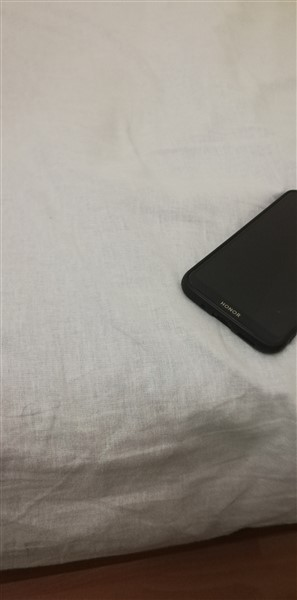telefon: (174, 184, 297, 361)
